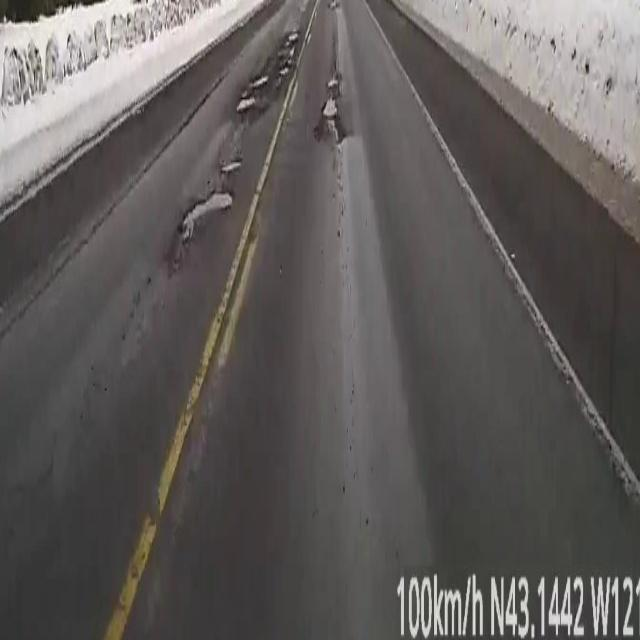pothole: (180, 188, 232, 240), (320, 71, 340, 142), (238, 72, 268, 116), (278, 32, 298, 76), (222, 156, 242, 175)
